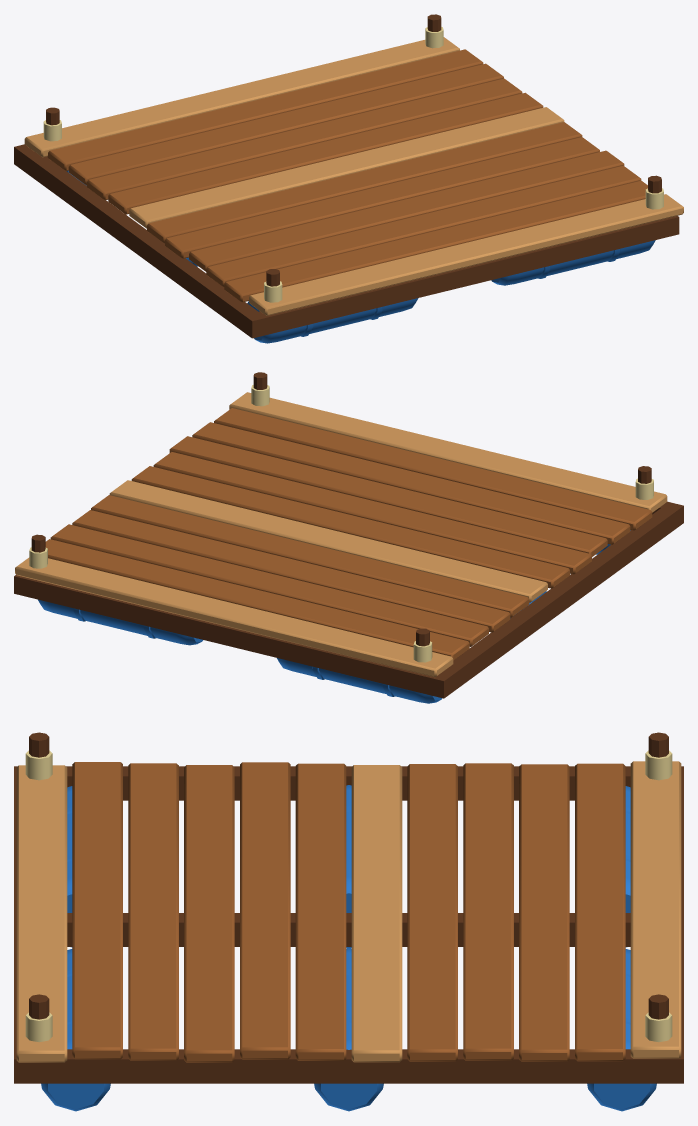
The model's file is raft_platform.glb.
The picture shows the model from 3 angles, top to bottom: view 1: azimuth 30°, elevation 25°; view 2: azimuth 150°, elevation 25°; view 3: azimuth 270°, elevation 25°; orthographic projection. The views are drawn at different scales.
Visible parts, largest first — view 1: raft_platform; view 2: raft_platform; view 3: raft_platform.
Boxes of the visible parts, bbox=[...] form: raft_platform: bbox=[14, 14, 683, 343]; raft_platform: bbox=[14, 372, 683, 703]; raft_platform: bbox=[14, 732, 683, 1111].
Size of the model in its own units: 4.2 by 0.75 by 4.
